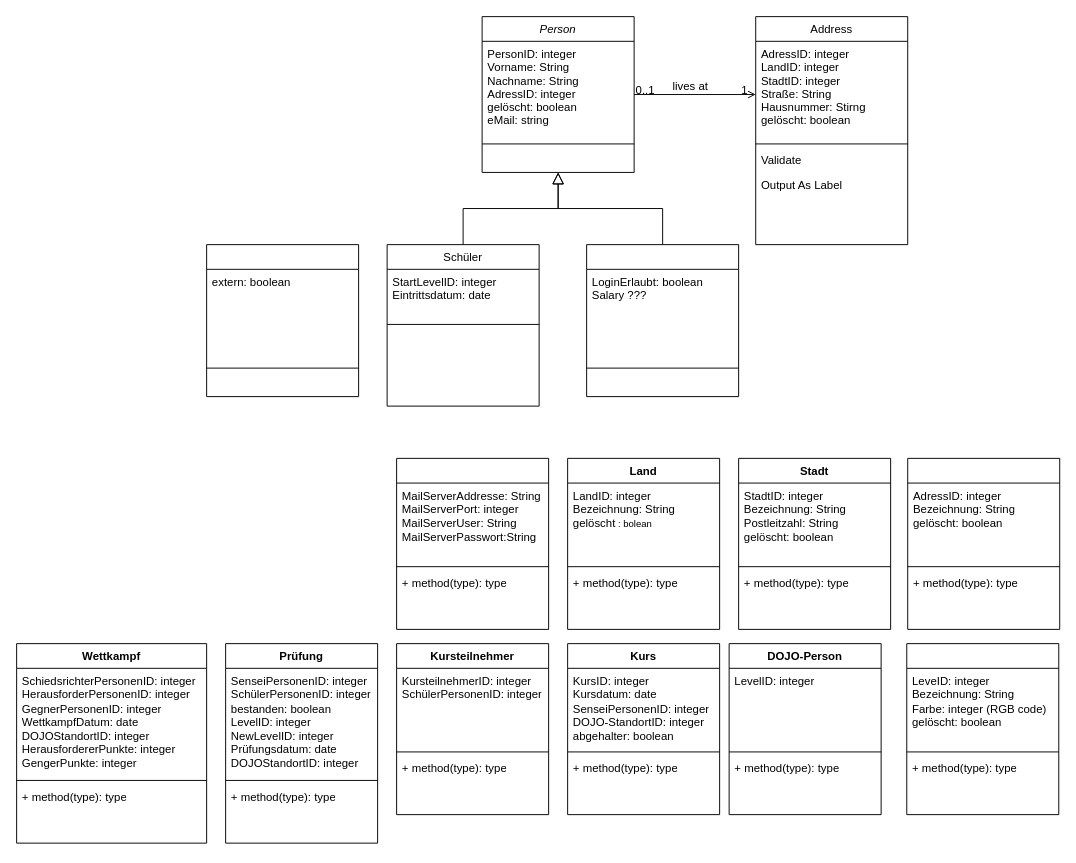
Image size: 1076x863. Some labels were removed from this diagram. Each missing label, with the box of its shape:
DOJO- Standort: (907, 457, 1060, 629)
EmailServer: (396, 457, 549, 629)
Level: (906, 643, 1059, 815)
Schiedsrichter: (206, 244, 359, 397)
Sensei: (586, 244, 739, 397)
